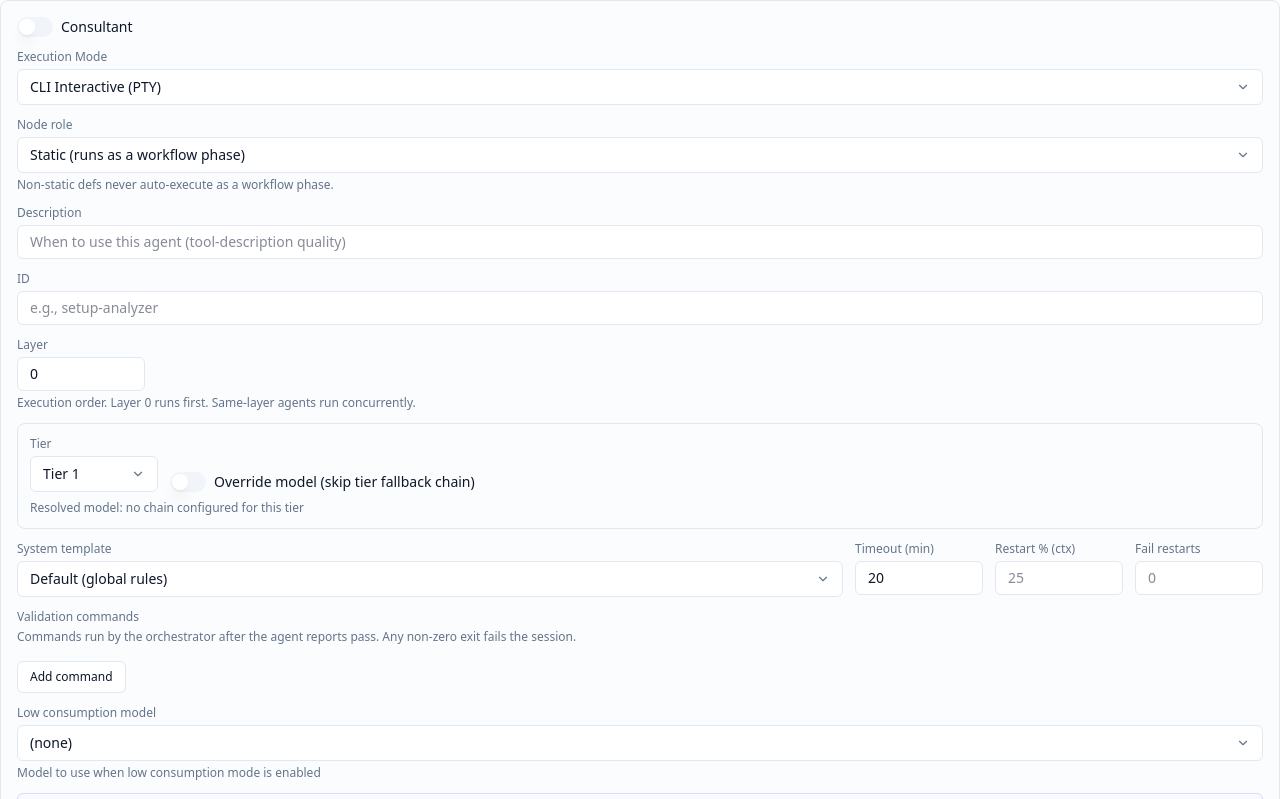
AgentDefForm - validation_commands › adding and removing rows › appends another row on second Add command click
What coordinates should you click on to do the following:
click the button "Add command"
I would click on:
 (71, 677)
Its box is x1=17 y1=661 x2=126 y2=693.
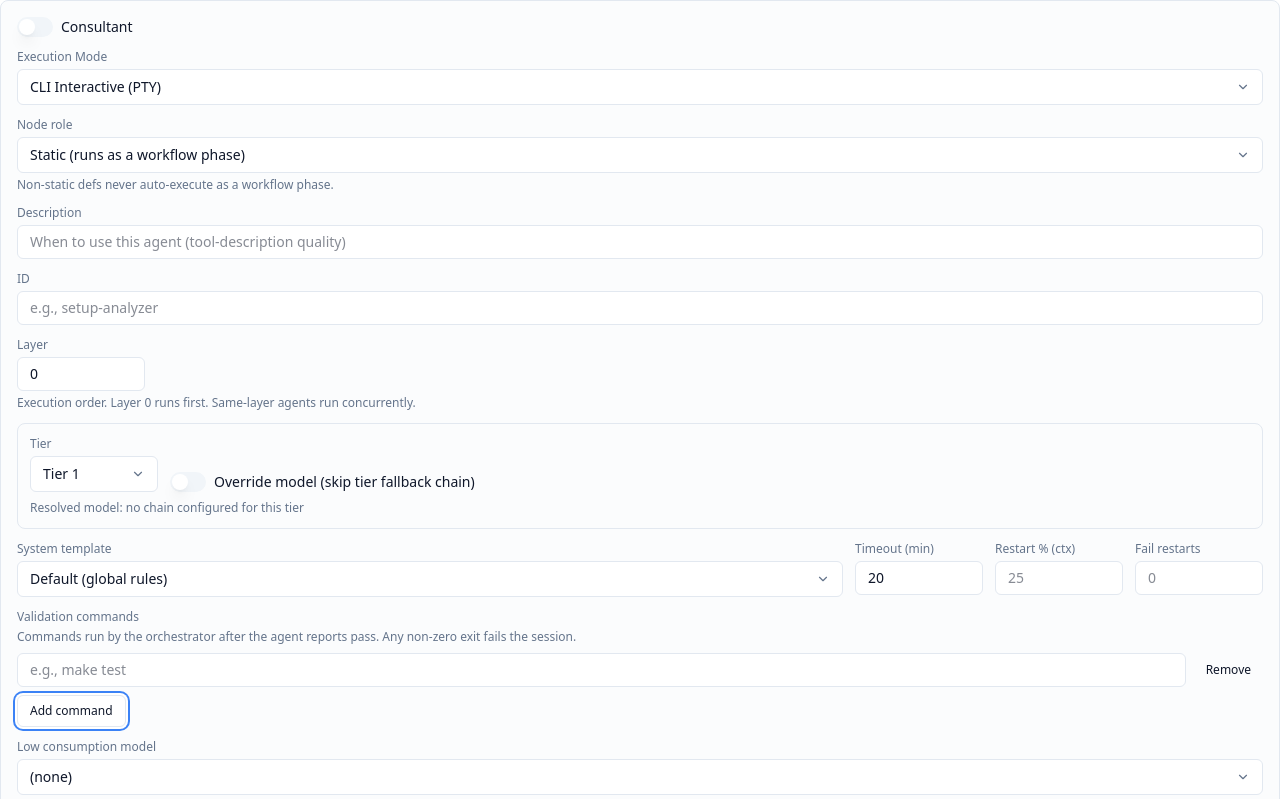
What coordinates should you click on to do the following:
click the button "Add command"
I would click on:
 (71, 711)
Its box is x1=17 y1=695 x2=126 y2=727.
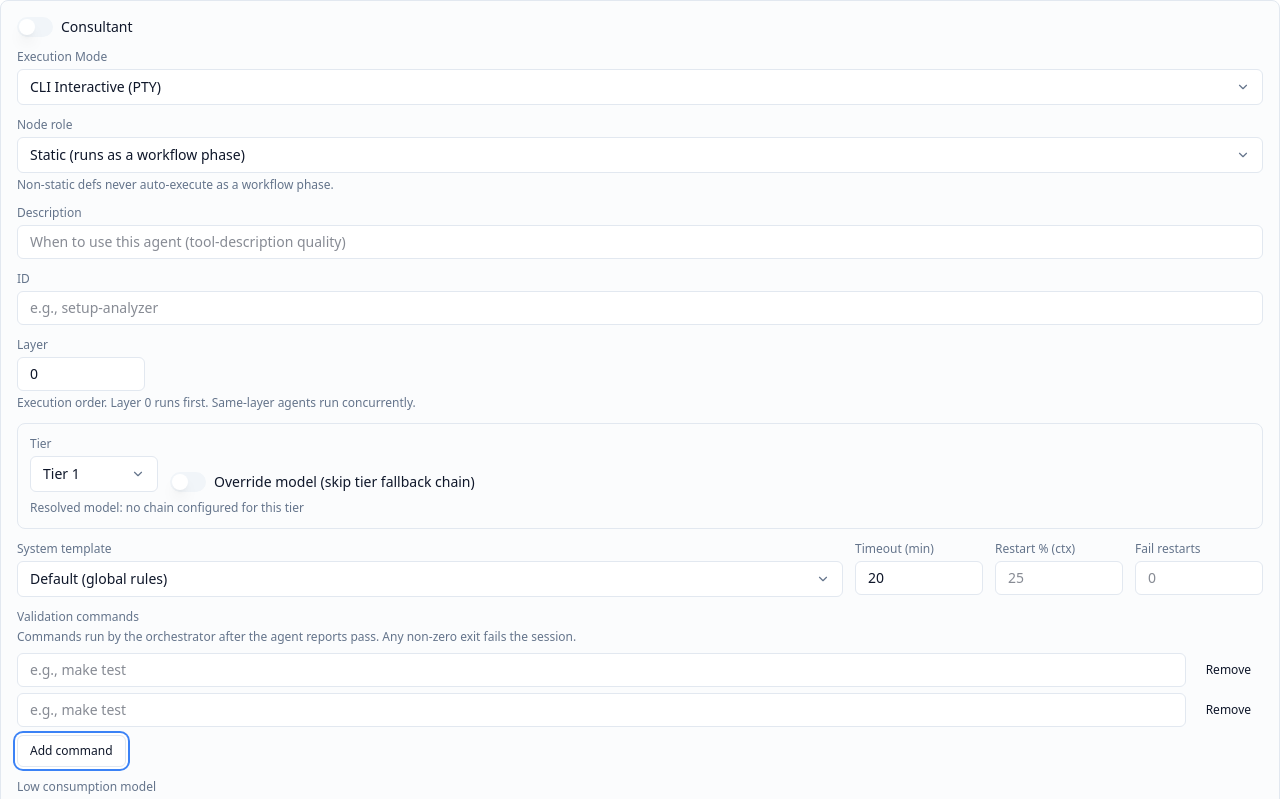
Expected: the number of fields with placeholder "e.g., make test" is 2, x1=17 y1=653 x2=1186 y2=687; x1=17 y1=693 x2=1186 y2=727
